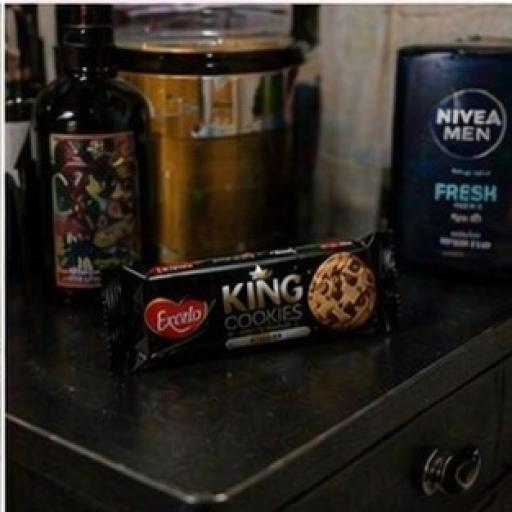king-cooking: (56, 178, 433, 408)
